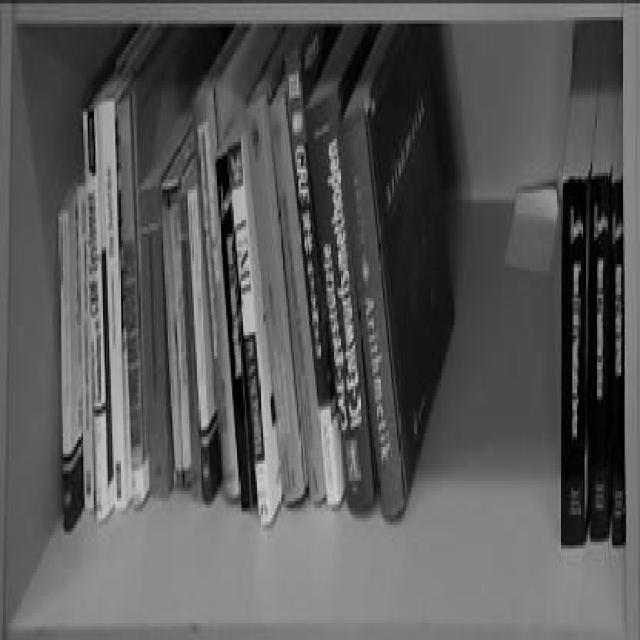book: (308, 24, 432, 527), (168, 61, 289, 528), (50, 66, 153, 523), (564, 12, 635, 545)
